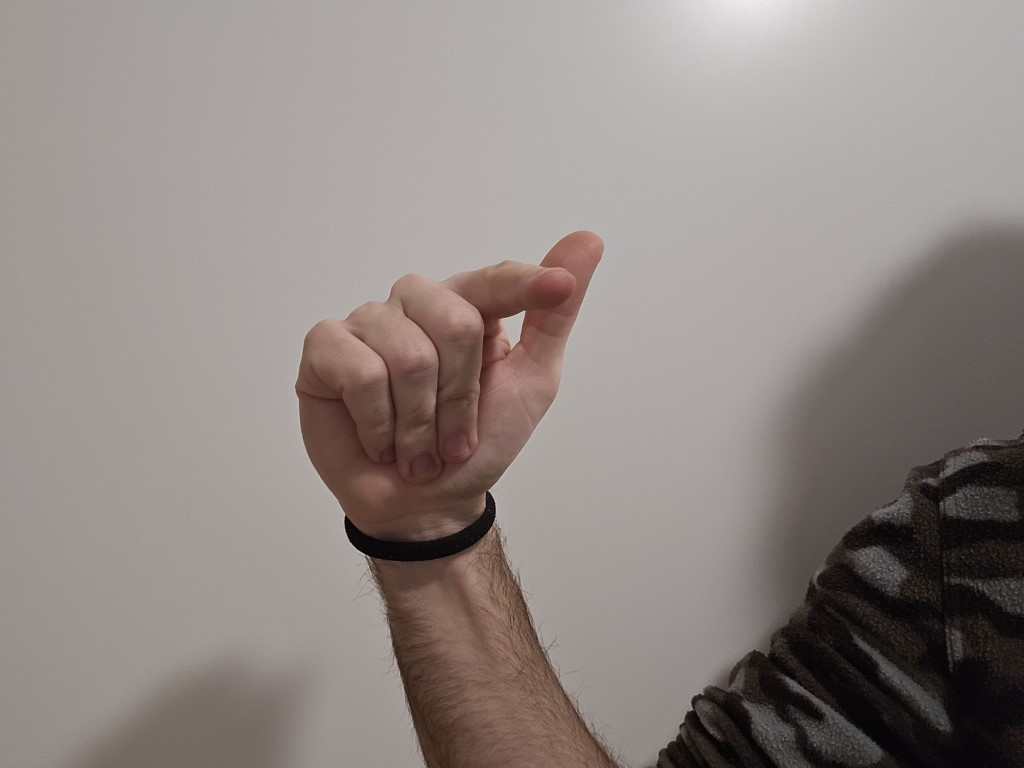t: (261, 206, 627, 526)
